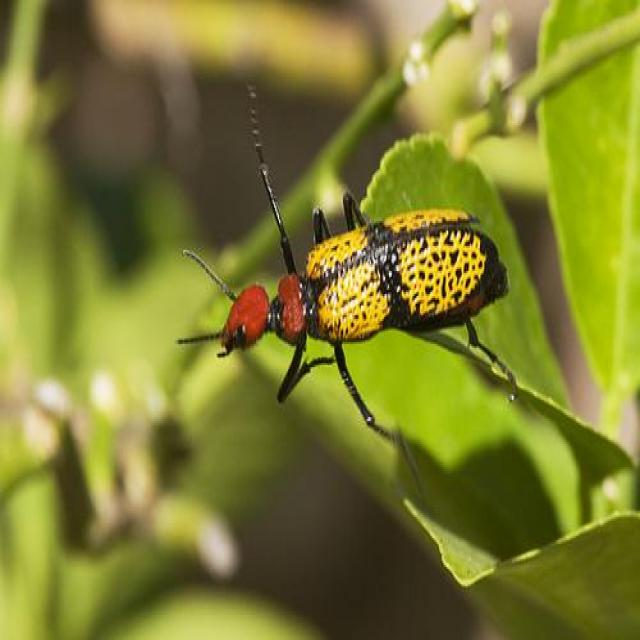BlisterBeetle-Adult-: (176, 141, 512, 438)
